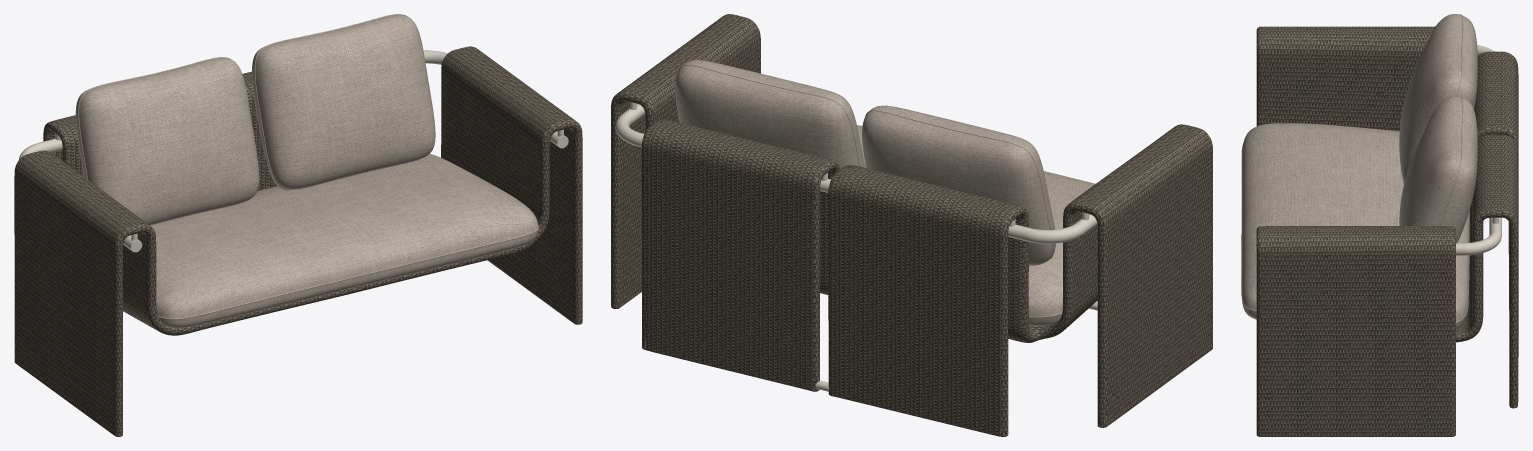
Rendered from kawa-two-seater-sofa.glb.
The picture shows the model from 3 angles, left to right: view 1: azimuth 30°, elevation 25°; view 2: azimuth 150°, elevation 25°; view 3: azimuth 270°, elevation 25°; orthographic projection. The views are drawn at different scales.
Visible parts, largest first — view 1: Two seater sofa.002, Two seater sofa, Two seater sofa.001; view 2: Two seater sofa, Two seater sofa.002, Two seater sofa.001; view 3: Two seater sofa, Two seater sofa.002, Two seater sofa.001.
Part boxes in pixels (x1,y1,x2,y2): Two seater sofa.002: (75,14,538,328); Two seater sofa: (14,46,582,436); Two seater sofa.001: (19,50,571,252); Two seater sofa: (611,14,1212,436); Two seater sofa.002: (675,60,1095,326); Two seater sofa.001: (615,102,1097,433); Two seater sofa: (1256,26,1518,436); Two seater sofa.002: (1241,14,1477,329); Two seater sofa.001: (1456,45,1501,255).
Size of the model in its own units: 15.74 by 8.13 by 8.44.
Materials: 3 (2 with a texture image).
